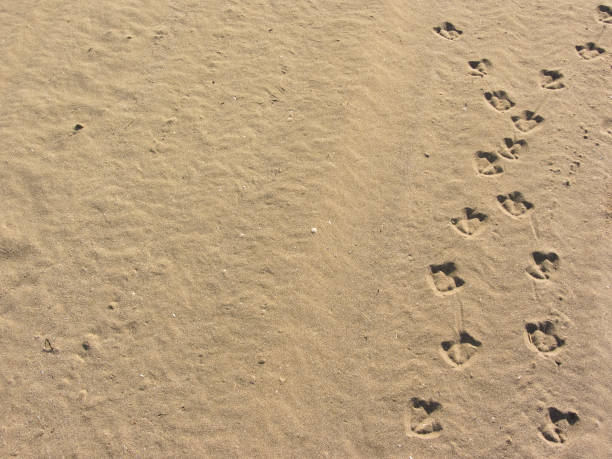animal_footprint: (404, 397, 442, 437), (539, 407, 579, 443), (441, 330, 481, 366), (524, 319, 564, 353), (429, 262, 464, 293), (450, 207, 487, 236), (526, 251, 559, 280), (497, 191, 533, 216), (511, 110, 543, 131), (475, 151, 503, 175), (498, 137, 527, 159), (484, 90, 514, 110), (575, 42, 604, 59), (433, 22, 462, 39), (540, 69, 564, 89), (468, 58, 491, 76), (596, 4, 611, 23)
